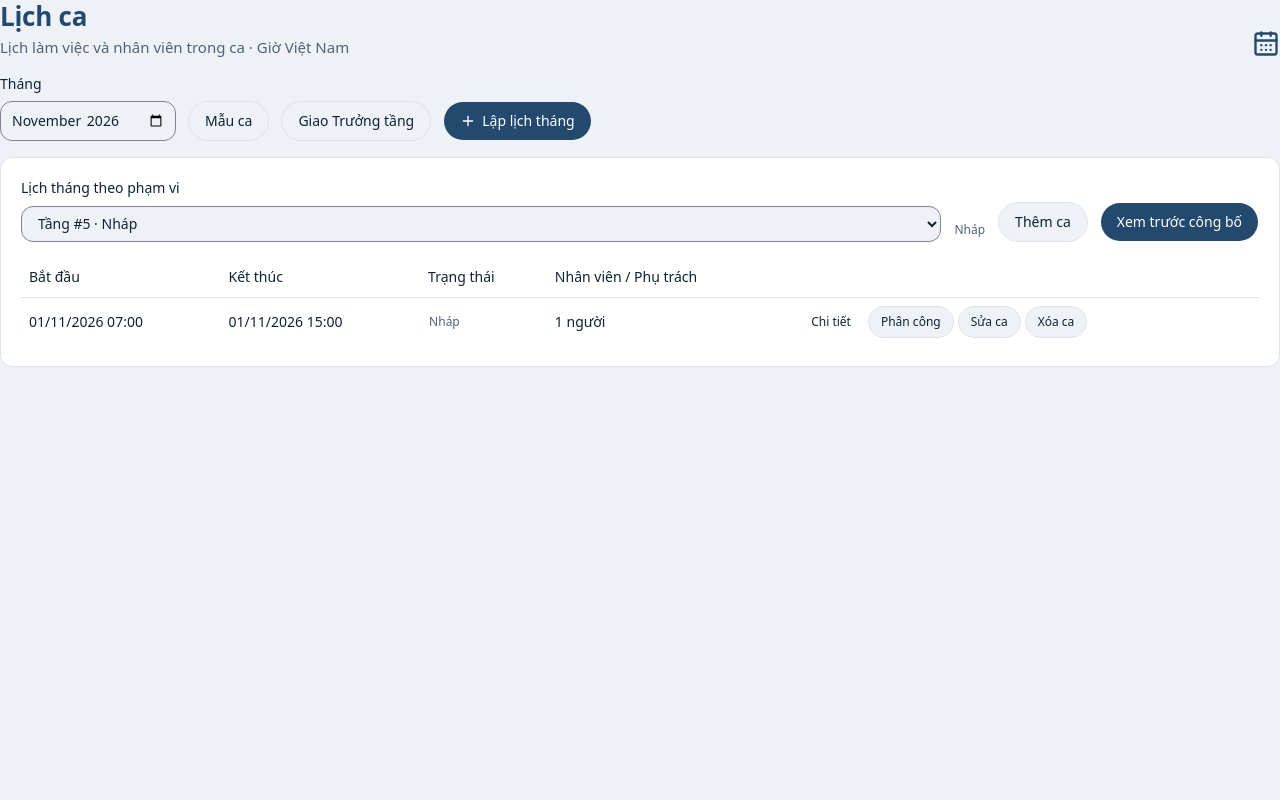
Test case: FR_037_chiTietCaMoLichSuTyLe_tuApi
This screenshot has width=1280, height=800.
Click the button "Chi tiết".
click(831, 322)  # box top-left (798, 306), bottom-right (864, 338)
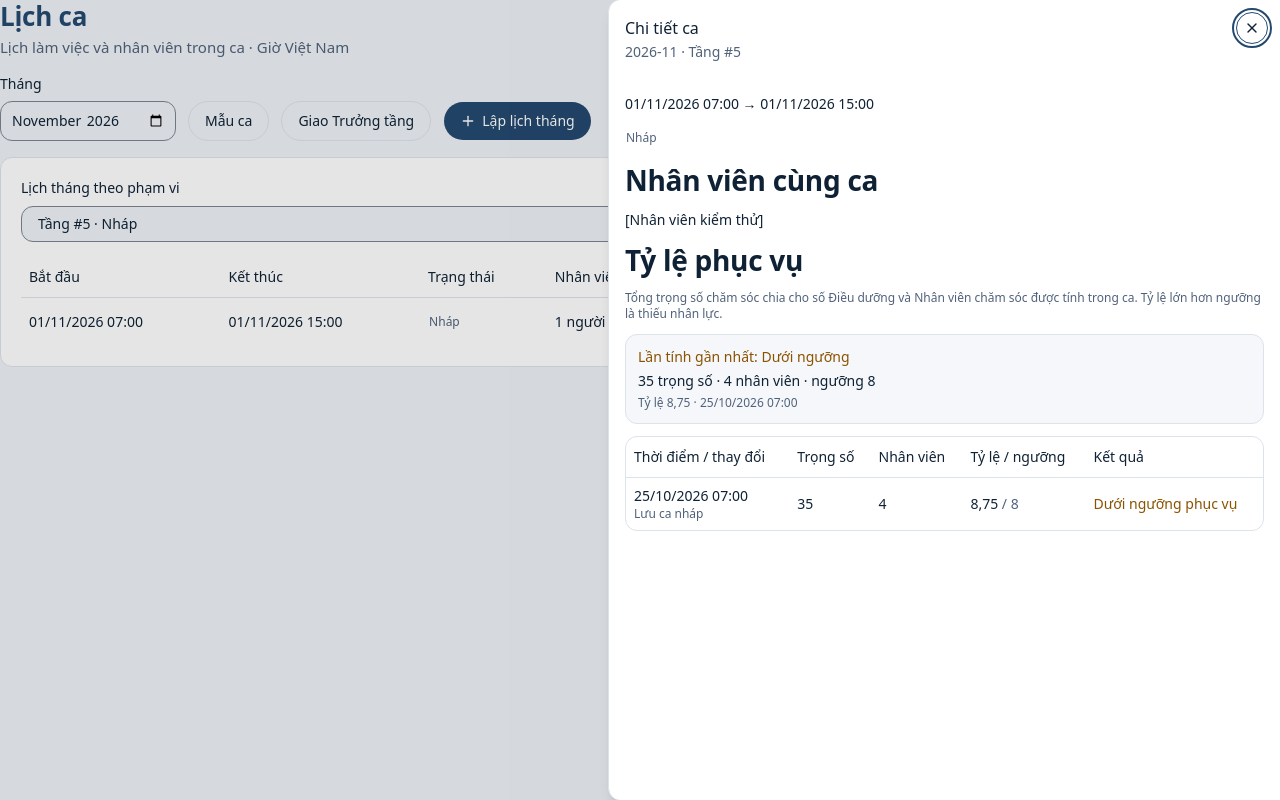
expect the element "Tỷ lệ phục vụ" is shown: met, box top-left (625, 242), bottom-right (1264, 530)
expect the text "Dưới ngưỡng phục vụ" is shown: met, box top-left (1094, 494), bottom-right (1237, 512)
